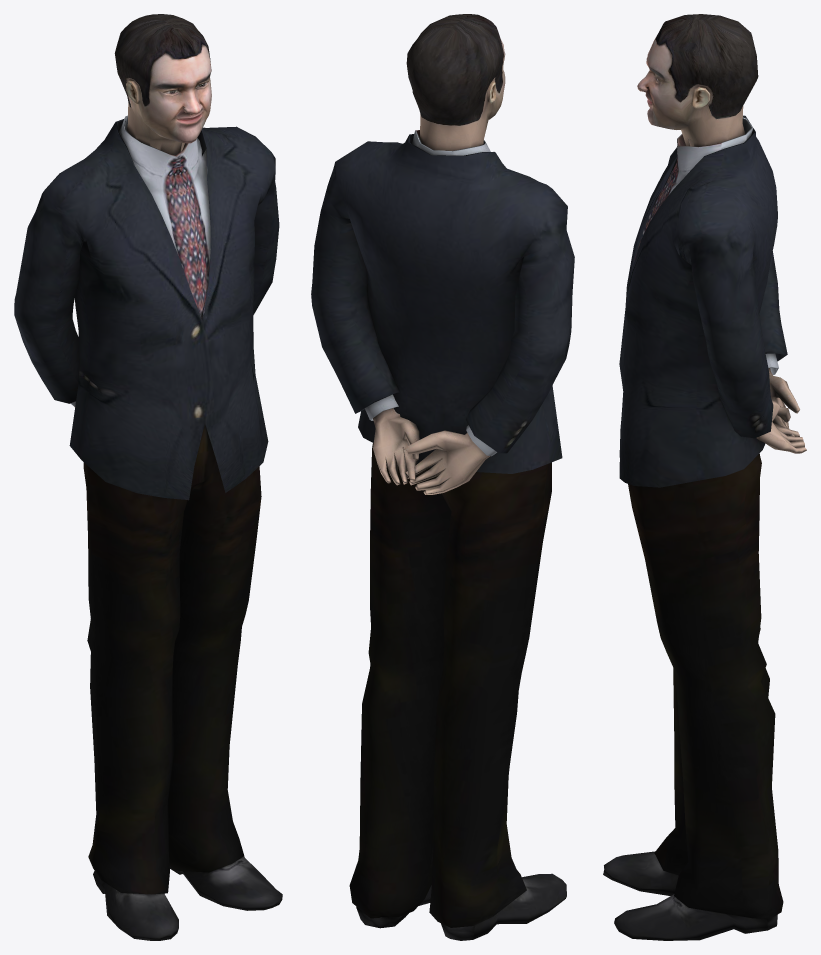
Rendered from SWT01_03_01.fbx.
3 renders of one model, left to right at view 1: azimuth 30°, elevation 25°; view 2: azimuth 150°, elevation 25°; view 3: azimuth 270°, elevation 25°, orthographic.
Parts seen in each view (by area): view 1: WAIT01_03_01; view 2: WAIT01_03_01; view 3: WAIT01_03_01.
Boxes of the visible parts, box(x1,y1,x2,y2) form: WAIT01_03_01: box(14, 14, 282, 940); WAIT01_03_01: box(311, 14, 574, 940); WAIT01_03_01: box(603, 14, 806, 940).
Bounding box in the file's own units: 21.04 × 71.76 × 15.02.
